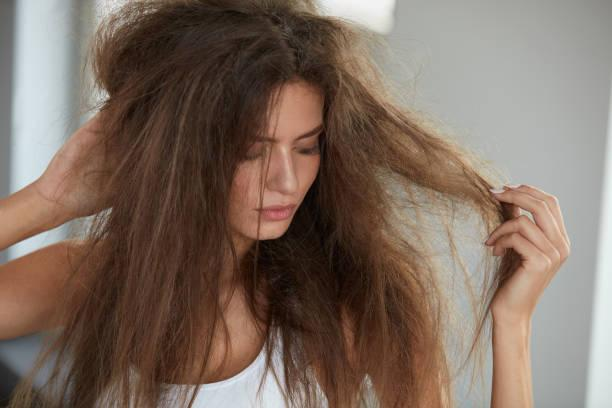dry hair: (337, 110, 404, 209), (100, 13, 175, 54), (250, 28, 295, 92), (398, 298, 458, 334), (318, 241, 365, 285)
